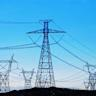power_tower: (26, 18, 69, 89), (0, 53, 19, 93), (82, 62, 96, 93), (18, 67, 35, 89)
